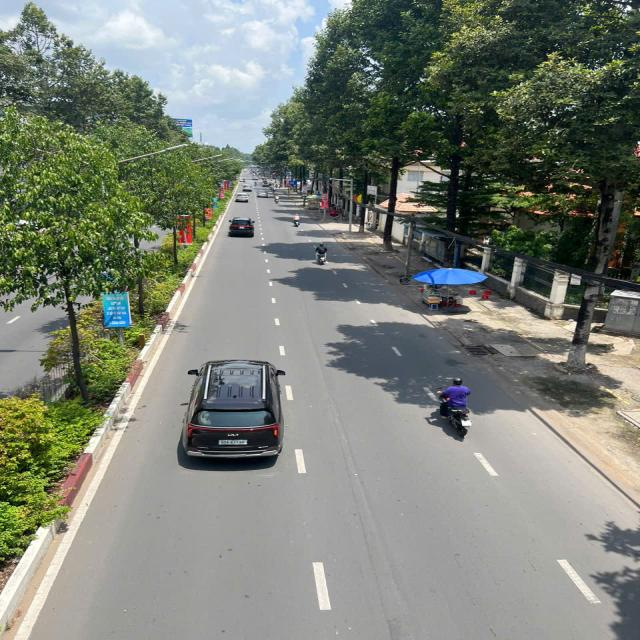car: (170, 354, 290, 464), (226, 213, 258, 240), (232, 189, 252, 204), (255, 188, 271, 200), (242, 182, 253, 191)
motobyte: (431, 375, 482, 442), (309, 238, 334, 267), (289, 211, 306, 231), (272, 192, 285, 205)
